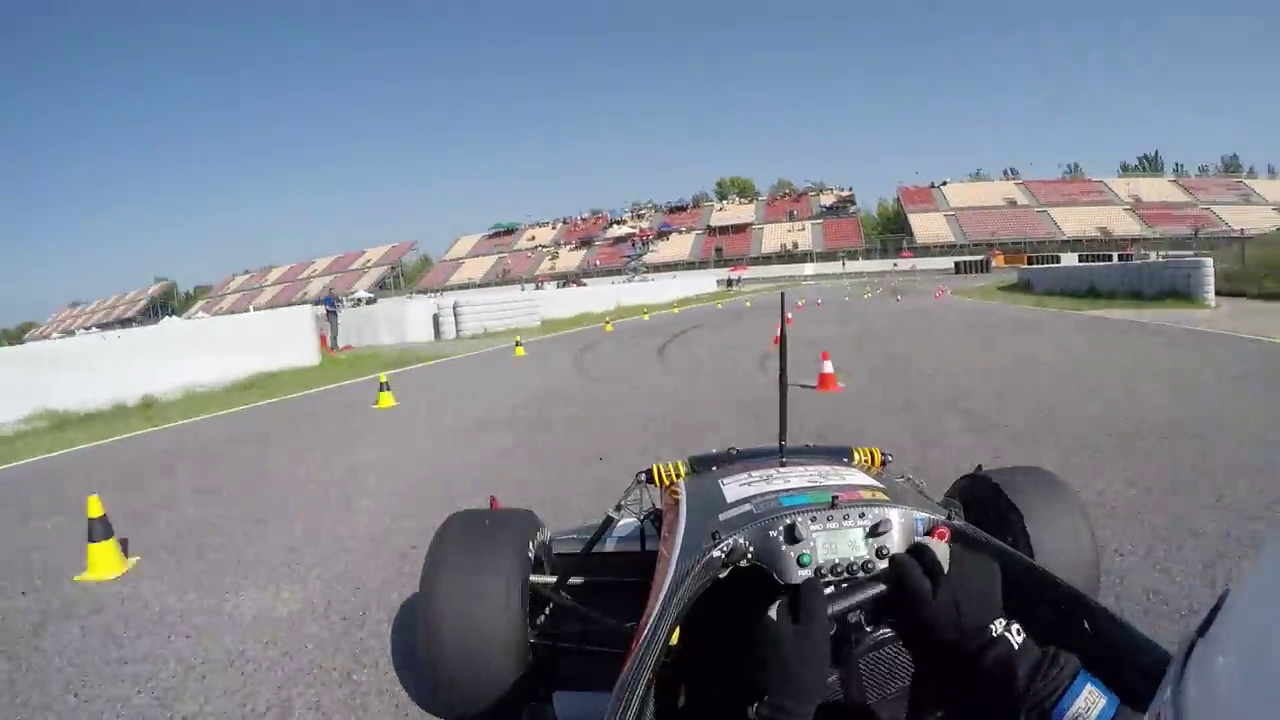Cone: (80, 491, 129, 582), (813, 349, 844, 394), (372, 371, 397, 409)
